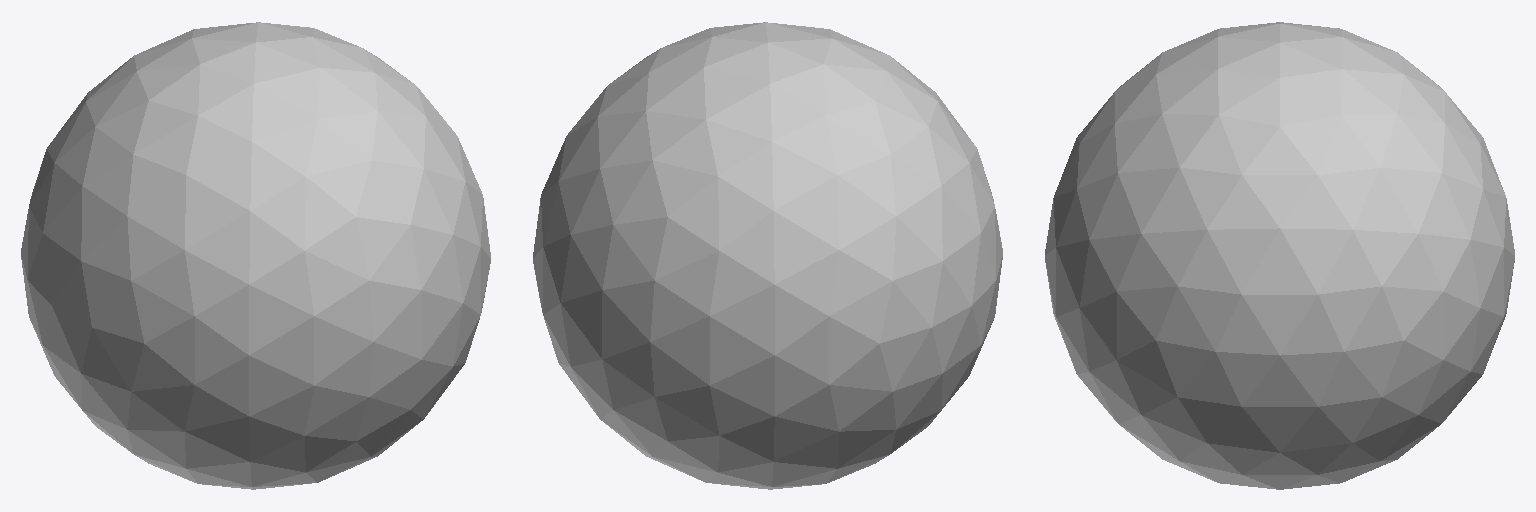
File: Prop_Joystick_Head.obj
The picture shows the model from 3 angles: view 1: azimuth 30°, elevation 25°; view 2: azimuth 150°, elevation 25°; view 3: azimuth 270°, elevation 25°; orthographic projection.
Visible parts, largest first — view 1: Prop_Joystick_Head; view 2: Prop_Joystick_Head; view 3: Prop_Joystick_Head.
Part boxes in pixels (x1,y1,x2,y2): Prop_Joystick_Head: (21,22,490,489); Prop_Joystick_Head: (533,22,1002,489); Prop_Joystick_Head: (1045,22,1514,489).
Size of the model in its own units: 0.4 by 0.4 by 0.4.